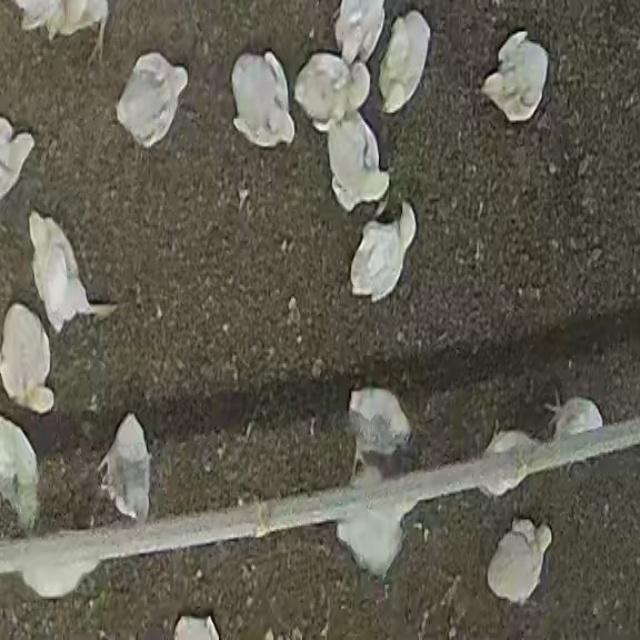chicken: (27, 210, 116, 334), (115, 52, 188, 148), (228, 49, 297, 150), (345, 200, 418, 294), (95, 411, 153, 526), (480, 29, 549, 122), (295, 49, 373, 131), (326, 112, 388, 212), (344, 383, 412, 472), (1, 304, 54, 414), (376, 10, 432, 114), (485, 517, 551, 604), (1, 413, 41, 534), (477, 428, 541, 498), (329, 0, 389, 60), (544, 395, 604, 440)
